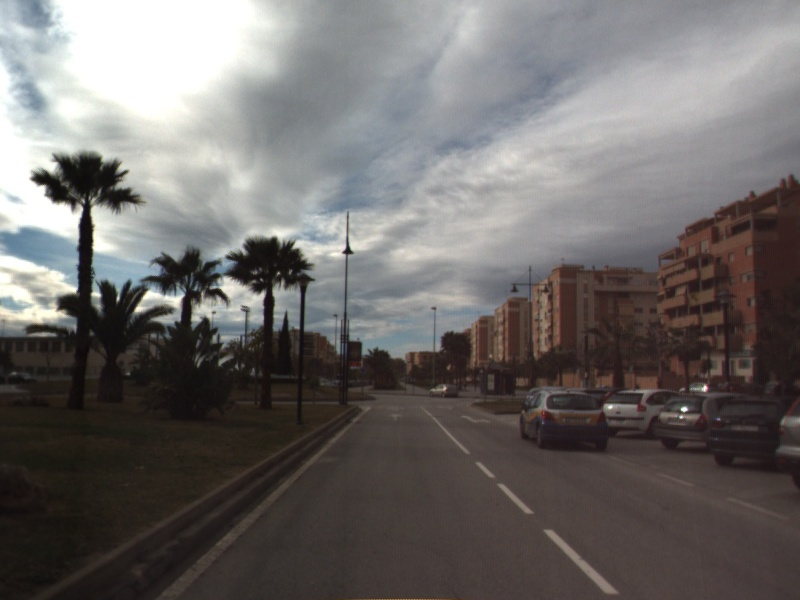STRAIGHT: (387, 412, 404, 422)
STRAIGHT_RIGHT: (459, 413, 493, 425)
